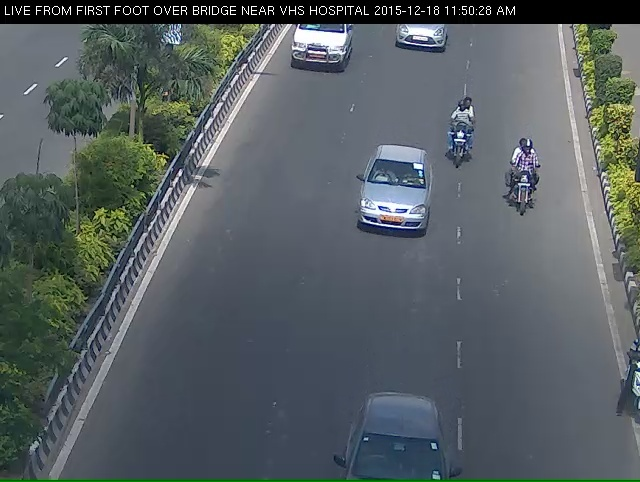Car: (359, 159, 433, 259), (284, 23, 353, 83), (392, 23, 452, 61)
Person: (507, 151, 541, 230), (444, 114, 478, 184)
